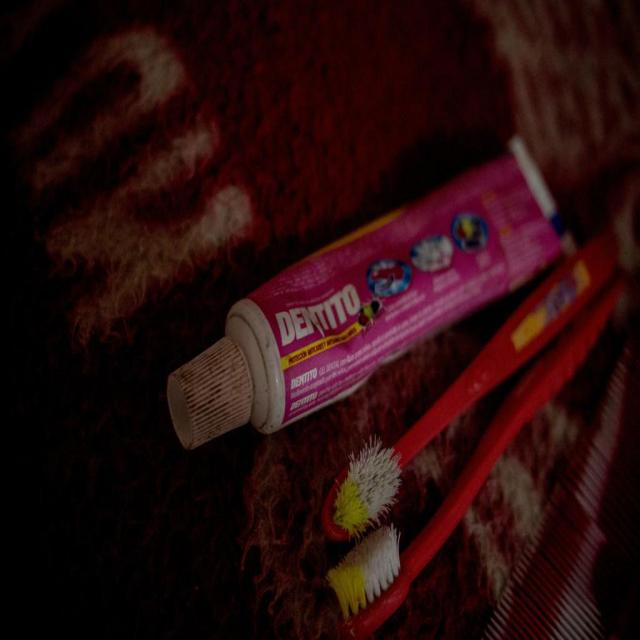Toothpaste: (165, 135, 579, 452)
